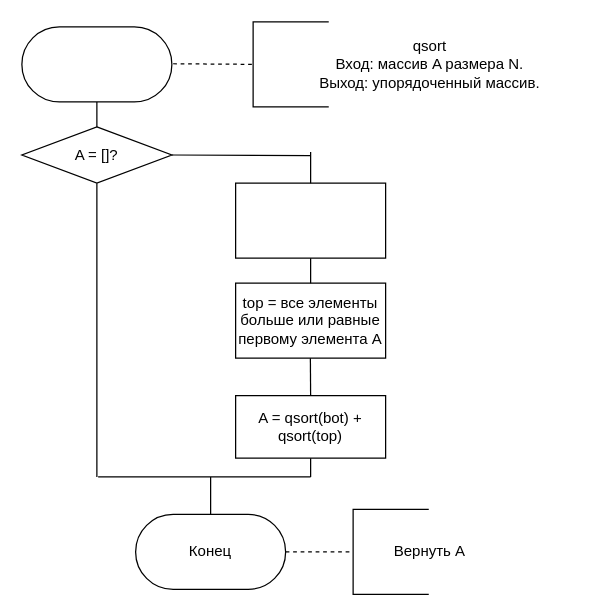
Some shapes in this 608 by 616 pixel diagram are drawn without their labels. The shapes that lost their labels are listed below. From the top down, each one's box as (x1, y1, x2, y2) in pixels, then its label:
(21, 26, 172, 102): Начало
(234, 182, 386, 258): bot = все элементы меньше первого элемента A
